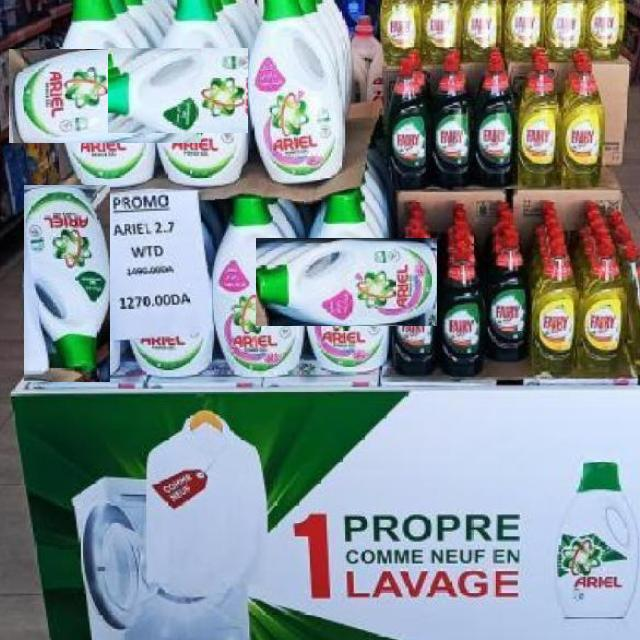Detergent: (8, 50, 201, 143), (249, 0, 344, 184), (23, 185, 110, 382), (257, 238, 437, 326), (215, 198, 304, 373), (109, 47, 289, 133)
